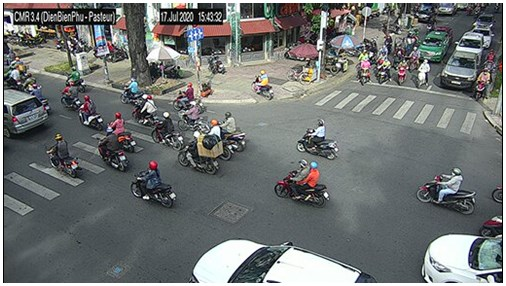xe_hoi: (191, 238, 379, 283), (420, 233, 502, 283), (4, 91, 47, 138), (441, 49, 479, 88), (420, 29, 449, 64), (455, 31, 485, 59), (473, 25, 493, 50), (474, 13, 495, 30)
xe_may: (416, 166, 477, 215), (275, 159, 331, 209), (131, 159, 176, 209), (296, 118, 339, 161), (45, 133, 80, 179), (97, 127, 128, 173), (152, 111, 184, 150), (106, 112, 136, 152), (219, 111, 246, 151), (77, 92, 104, 131), (178, 100, 204, 132), (132, 95, 158, 126), (251, 70, 274, 100), (119, 76, 143, 104), (173, 81, 197, 109), (59, 81, 81, 111), (473, 67, 491, 100), (66, 65, 87, 92), (34, 85, 52, 115), (5, 65, 23, 91), (417, 58, 430, 90), (378, 57, 391, 84), (359, 58, 371, 85), (396, 58, 408, 85), (408, 47, 420, 74)
